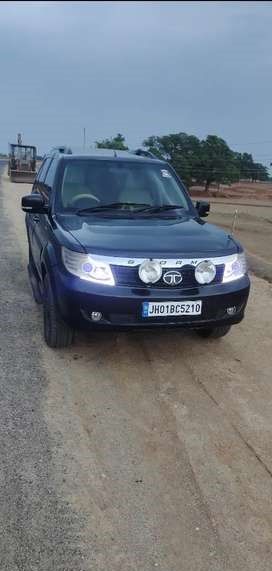JH01BC5210: (141, 300, 202, 315)
